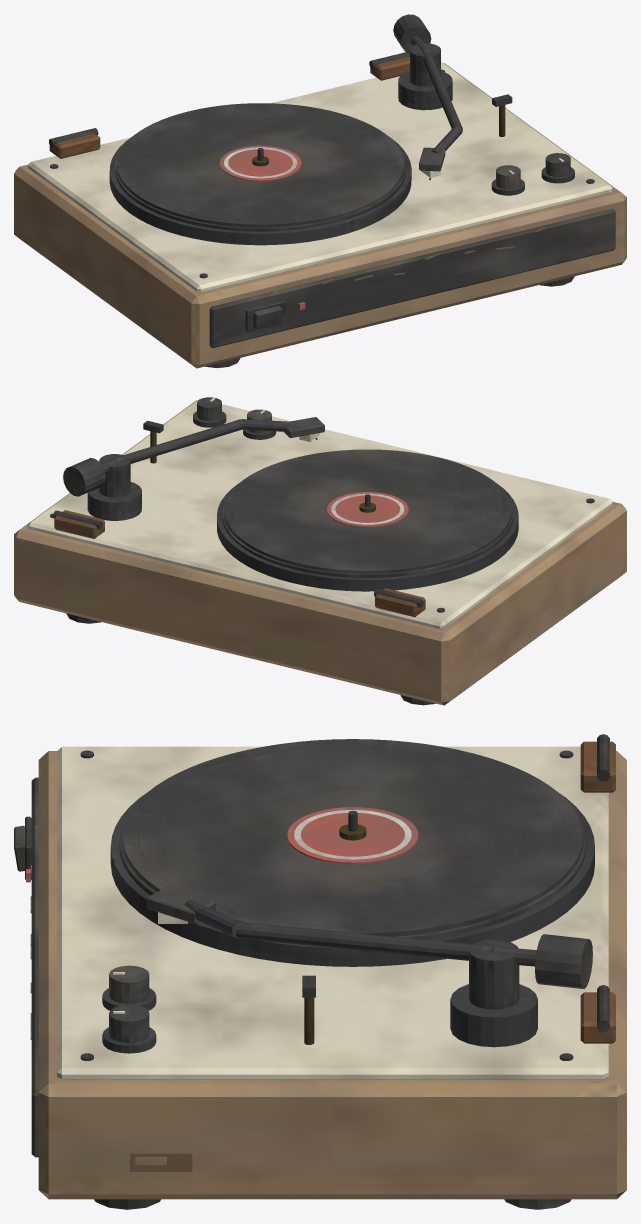
File: Q21_record_player.glb
3 renders of one model, top to bottom at view 1: azimuth 30°, elevation 25°; view 2: azimuth 150°, elevation 25°; view 3: azimuth 270°, elevation 25°, orthographic. The views are drawn at different scales.
Visible parts, largest first — view 1: Rubber isolation foot; view 2: Rubber isolation foot; view 3: Rubber isolation foot.
Boxes of the visible parts, bbox=[...] form: Rubber isolation foot: bbox=[14, 14, 626, 368]; Rubber isolation foot: bbox=[14, 397, 626, 705]; Rubber isolation foot: bbox=[14, 734, 626, 1209].
Size of the model in its own units: 0.5 by 0.1726 by 0.379.
10 materials, 10 textured.
